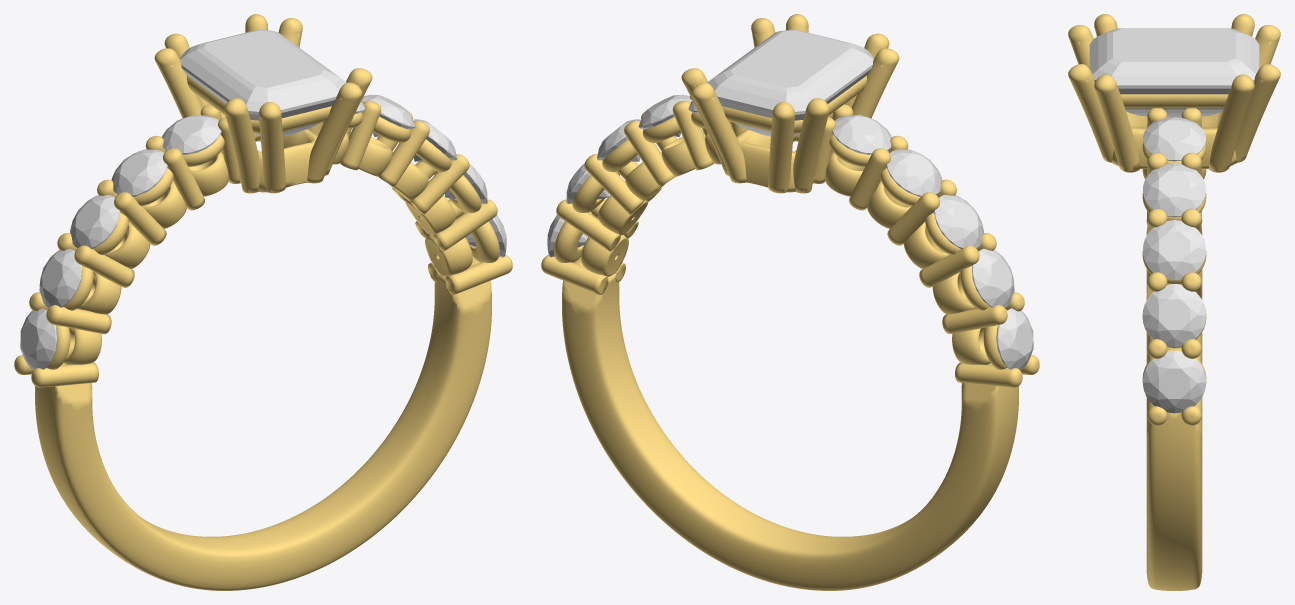
The model's file is diamond-emerald-yellowgold-8prong-straightband-11stone.glb.
3 views of the same model, side by side, from view 1: azimuth 30°, elevation 25°; view 2: azimuth 150°, elevation 25°; view 3: azimuth 270°, elevation 25° (orthographic).
Visible parts, largest first — view 1: metal.001, stone, side.004, side.005, side.003, side, side.006, side.010; view 2: metal.001, stone, side.004, side.005, side.003, side, side.006, side.010; view 3: metal.001, stone, side.008, side.007, side.009, side.010, side.011.
Boxes of the visible parts, x1,y1,x2,y2 form: metal.001: (14,14,512,590); stone: (180,29,346,136); side.004: (70,194,119,248); side.005: (111,149,167,196); side.003: (39,248,81,307); side: (20,308,57,369); side.006: (162,114,221,154); side.010: (361,94,415,137); metal.001: (541,14,1039,590); stone: (707,29,873,136); side.004: (934,194,983,248); side.005: (886,149,942,196); side.003: (972,248,1014,307); side: (996,308,1033,369); side.006: (832,114,891,154); side.010: (638,94,692,137); metal.001: (1068,14,1280,590); stone: (1089,28,1259,117); side.008: (1143,284,1205,346); side.007: (1143,350,1205,413); side.009: (1143,220,1205,280); side.010: (1143,163,1205,217); side.011: (1143,117,1205,161).
Size of the model in its own units: 21.87 by 22.75 by 8.4.
